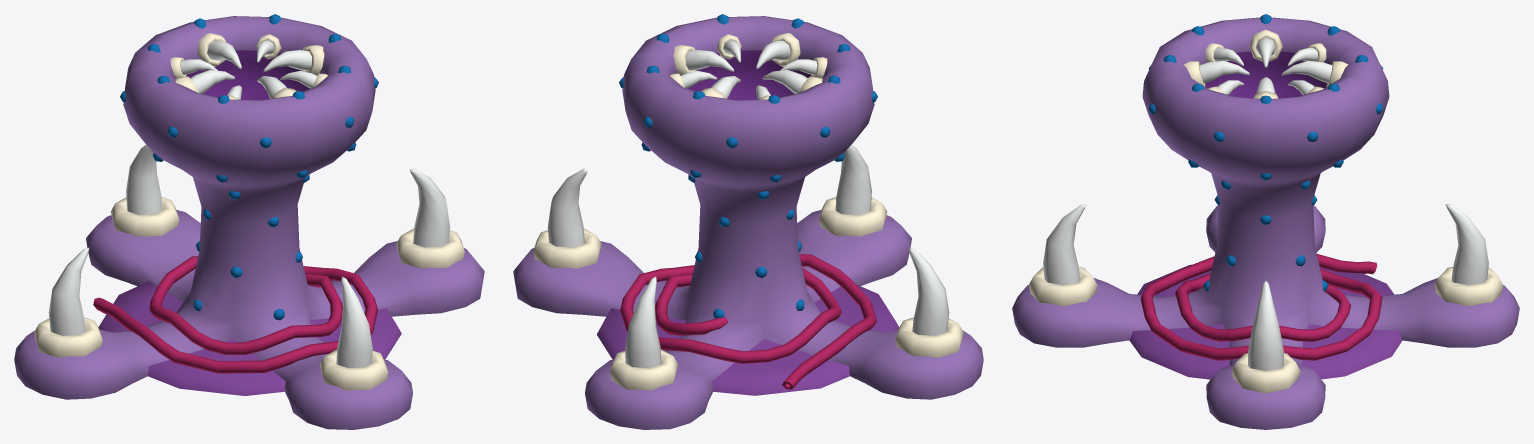
File: Plant_7_purple.fbx
3 renders of one model, left to right at view 1: azimuth 30°, elevation 25°; view 2: azimuth 150°, elevation 25°; view 3: azimuth 270°, elevation 25°, orthographic. The views are drawn at different scales.
Parts seen in each view (by area): view 1: Plant_7_purple; view 2: Plant_7_purple; view 3: Plant_7_purple.
Boxes of the visible parts, box(x1,y1,x2,y2) form: Plant_7_purple: box(14, 14, 484, 429); Plant_7_purple: box(513, 14, 983, 429); Plant_7_purple: box(1012, 14, 1519, 429).
Bounding box in the file's own units: 4.45 × 2.6 × 4.45.
